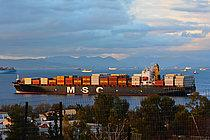Ship: (11, 60, 202, 101)
